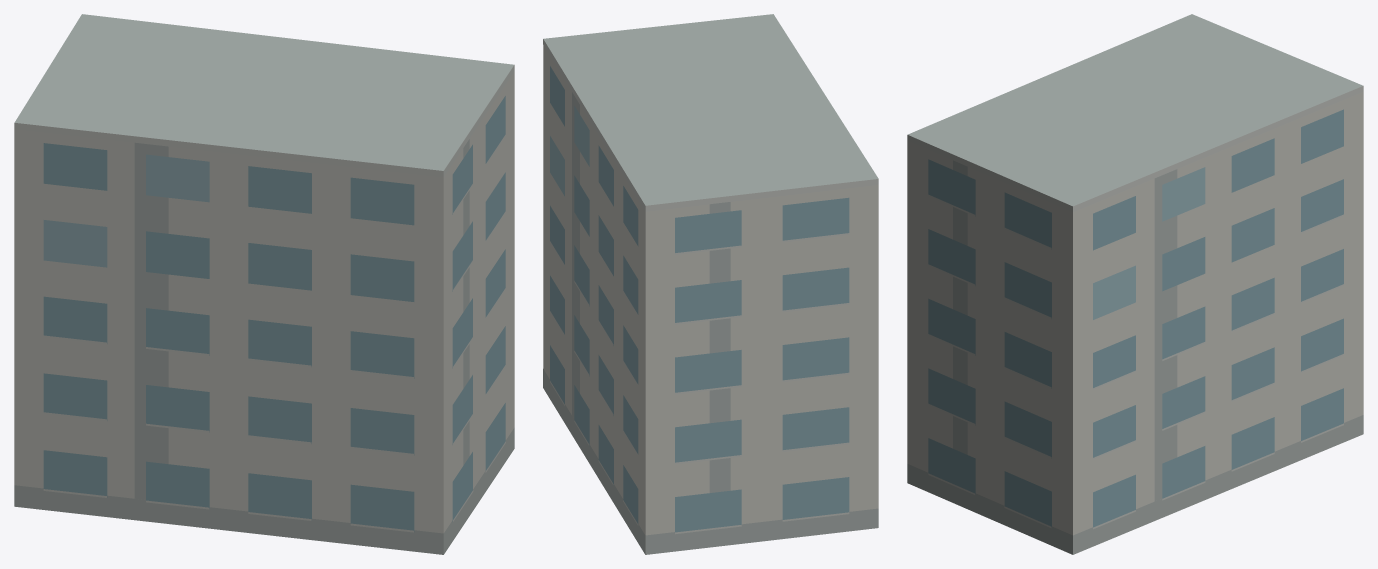
File: survey-upis-32885811.glb
The picture shows the model from 3 angles, left to right: view 1: azimuth 30°, elevation 25°; view 2: azimuth 150°, elevation 25°; view 3: azimuth 270°, elevation 25°; orthographic projection. The views are drawn at different scales.
Visible parts, largest first — view 1: survey-upis-32885811.tmp; view 2: survey-upis-32885811.tmp; view 3: survey-upis-32885811.tmp.
Boxes of the visible parts, bbox=[...] form: survey-upis-32885811.tmp: bbox=[14, 14, 514, 554]; survey-upis-32885811.tmp: bbox=[543, 14, 878, 554]; survey-upis-32885811.tmp: bbox=[907, 14, 1363, 554].
Bounding box in the file's own units: 17.12 × 14.45 × 17.15.
